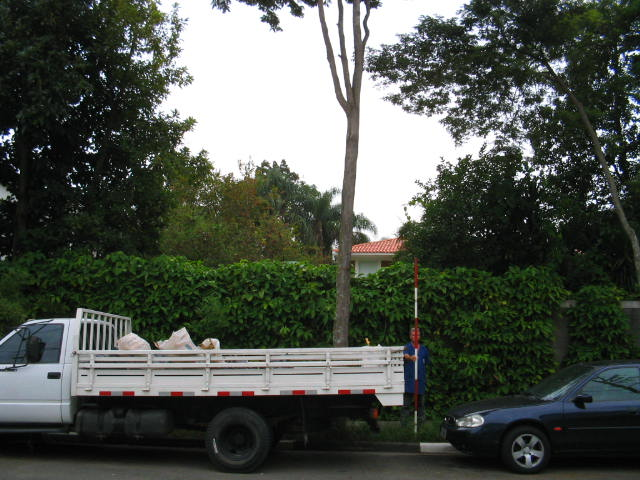stick: (408, 257, 422, 440)
